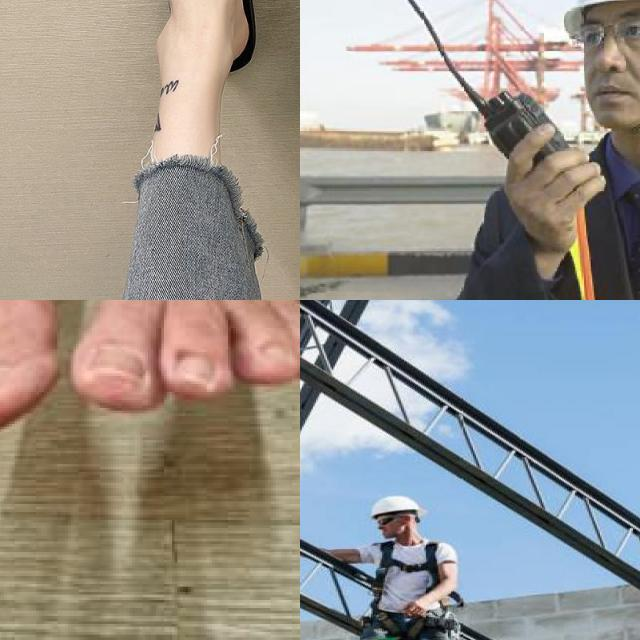Barefoots: (91, 300, 300, 438), (0, 300, 82, 468)
Harness: (373, 542, 440, 610)
Sandals: (91, 0, 300, 131)
face_nomask: (584, 52, 640, 130)
glasses: (577, 20, 640, 49)
hand_noglove: (504, 125, 604, 279)
